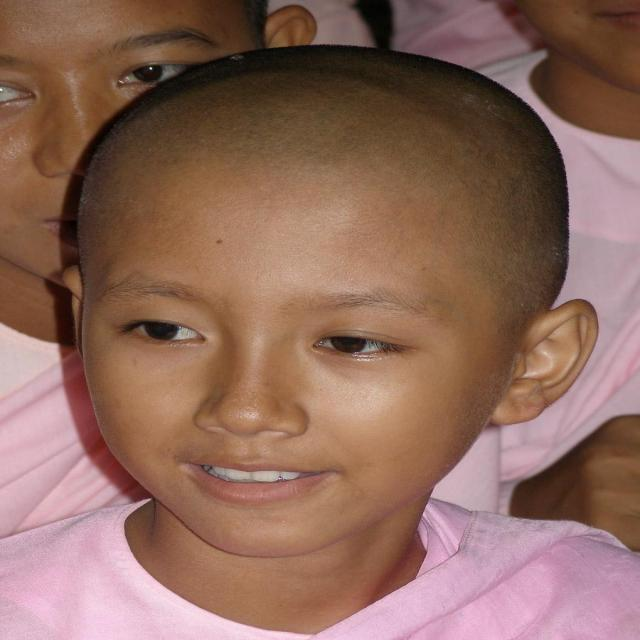no-glass: (107, 322, 414, 356)
